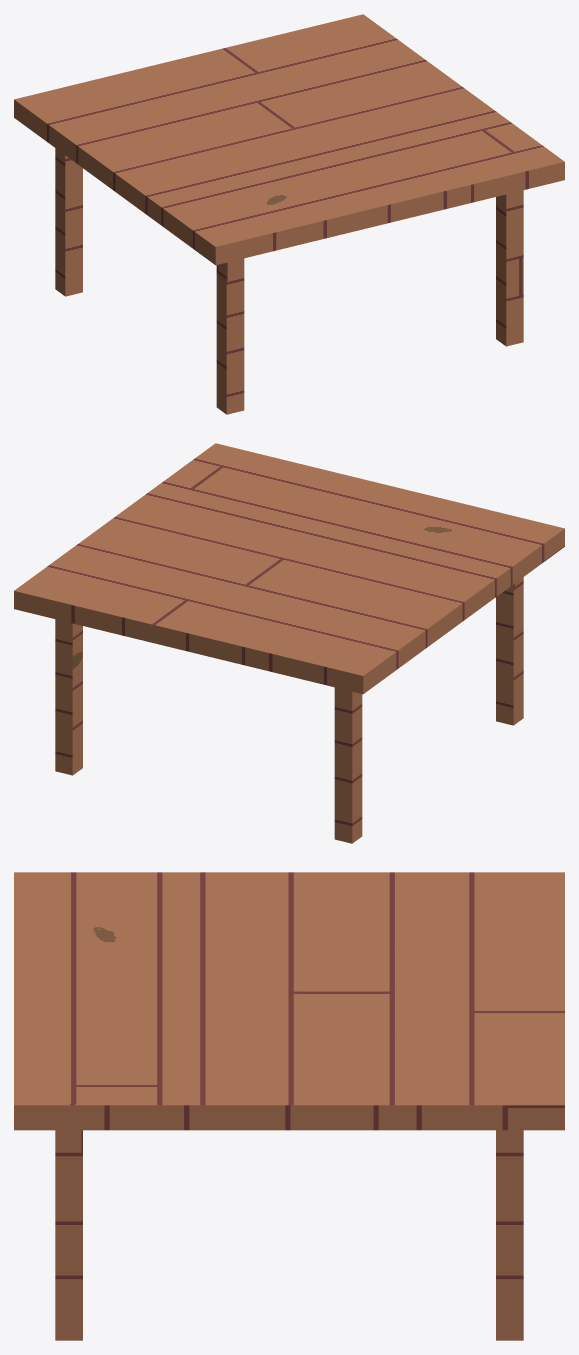
Rendered from stol.fbx.
3 renders of one model, top to bottom at view 1: azimuth 30°, elevation 25°; view 2: azimuth 150°, elevation 25°; view 3: azimuth 270°, elevation 25°, orthographic. The views are drawn at different scales.
Parts seen in each view (by area): view 1: Cube.001; view 2: Cube.001; view 3: Cube.001.
Boxes of the visible parts, box(x1,y1,x2,y2) form: Cube.001: box(14, 14, 564, 414); Cube.001: box(14, 443, 564, 843); Cube.001: box(14, 872, 564, 1340).
Bounding box in the file's own units: 100 × 50.65 × 100.
